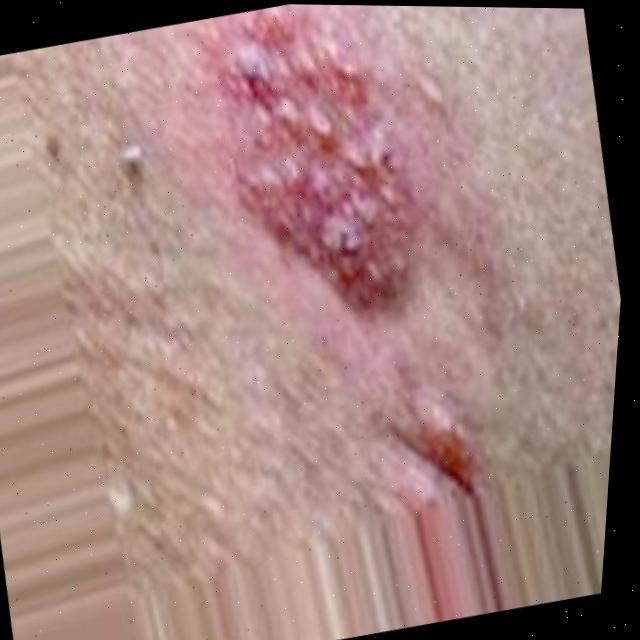Shingles: (199, 4, 458, 345), (412, 407, 485, 495)
